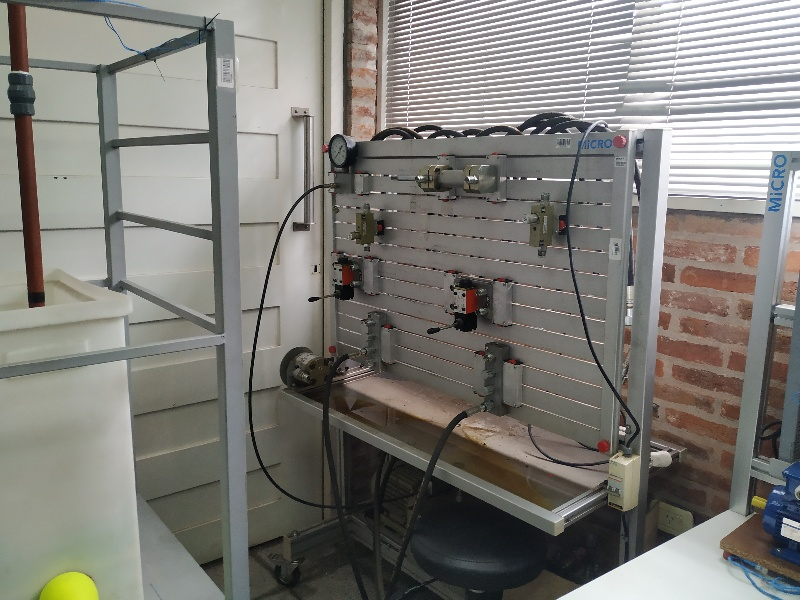Tablero 5: (323, 142, 641, 441)
